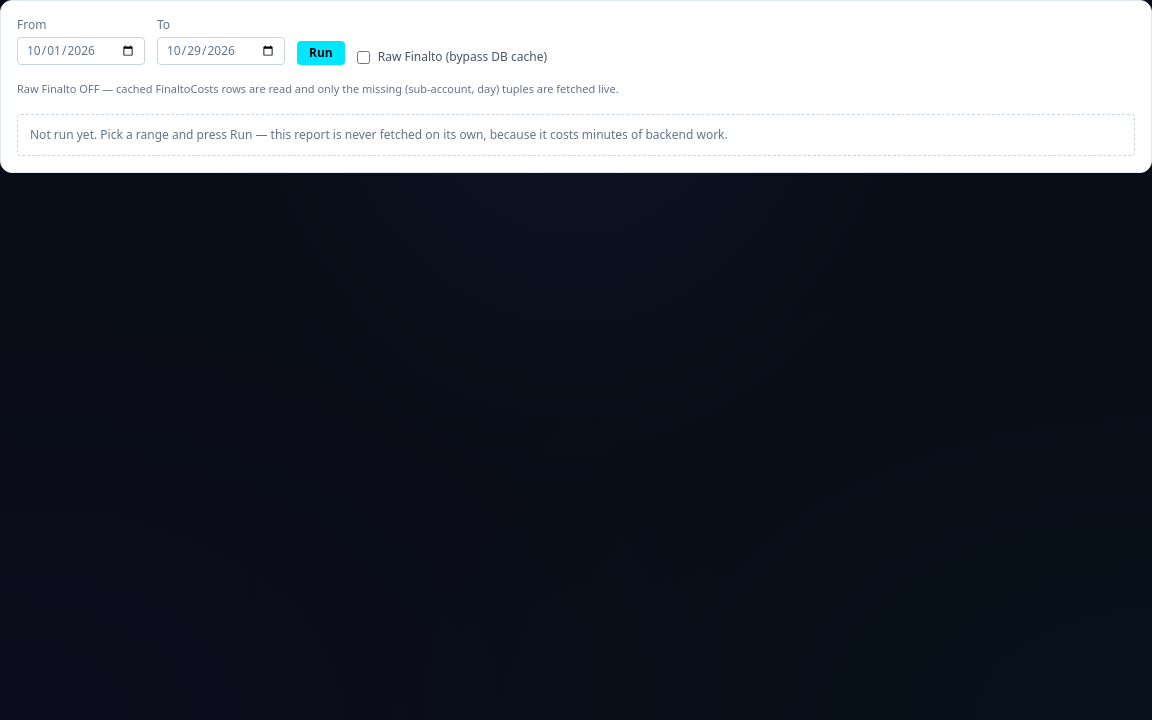
Scenario: a timeout is its own state, naming the range › a report that ran and found nothing is not a failure
The width and height of the screenshot is (1152, 720).
Click the button "Run" at coordinates (321, 53), box [297,41,345,65]
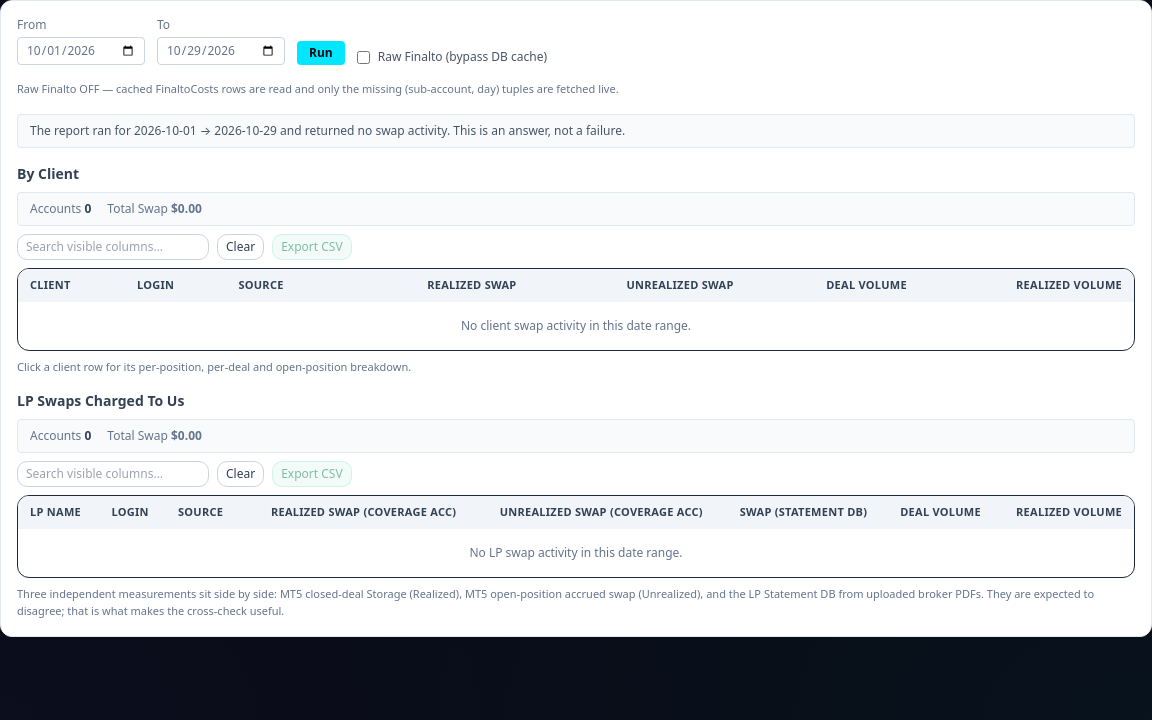
Expected: the text "returned no swap activity" is shown, [277,122,625,139]
